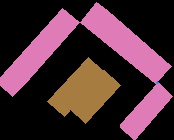parkingspot: (80, 2, 171, 83), (0, 8, 79, 96), (47, 57, 104, 116), (120, 82, 172, 140), (69, 70, 120, 123)
